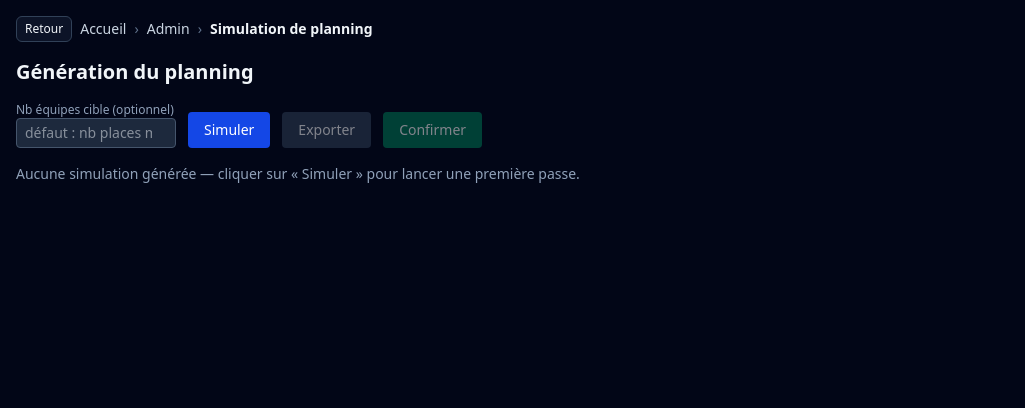
Test: PlanningSimulationPage › lance une simulation et affiche le Gantt, le score et les violations
What coordinates should you click on to do the following:
click the button "Simuler"
I would click on:
 (229, 130)
Its box is [188, 112, 270, 148].
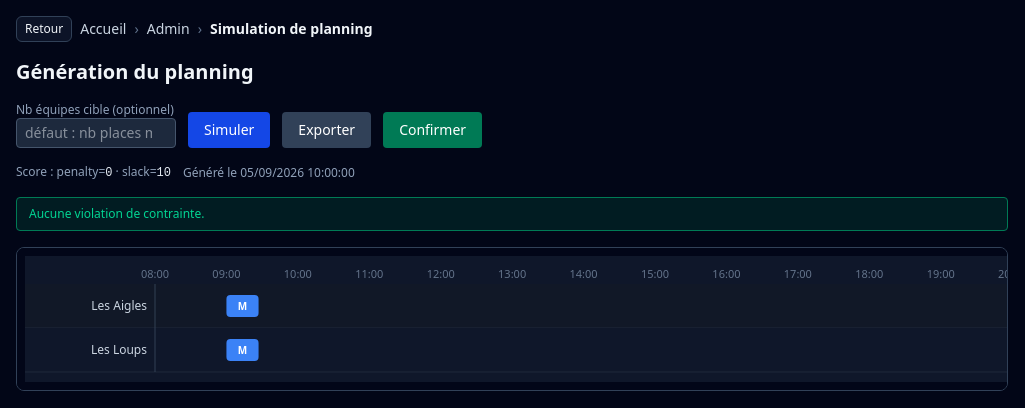
Expected: the text "Les Aigles" is shown, [91, 297, 147, 314]
Expected: the text "Aucune violation de contrainte." is shown, [16, 197, 1008, 231]
